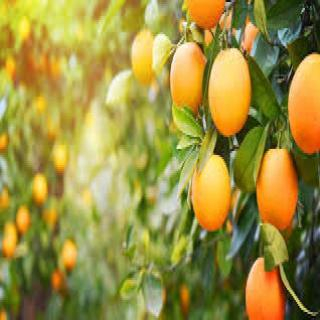orange: (202, 42, 258, 146), (248, 138, 300, 234), (186, 146, 235, 244), (285, 36, 320, 169), (238, 244, 288, 320)
